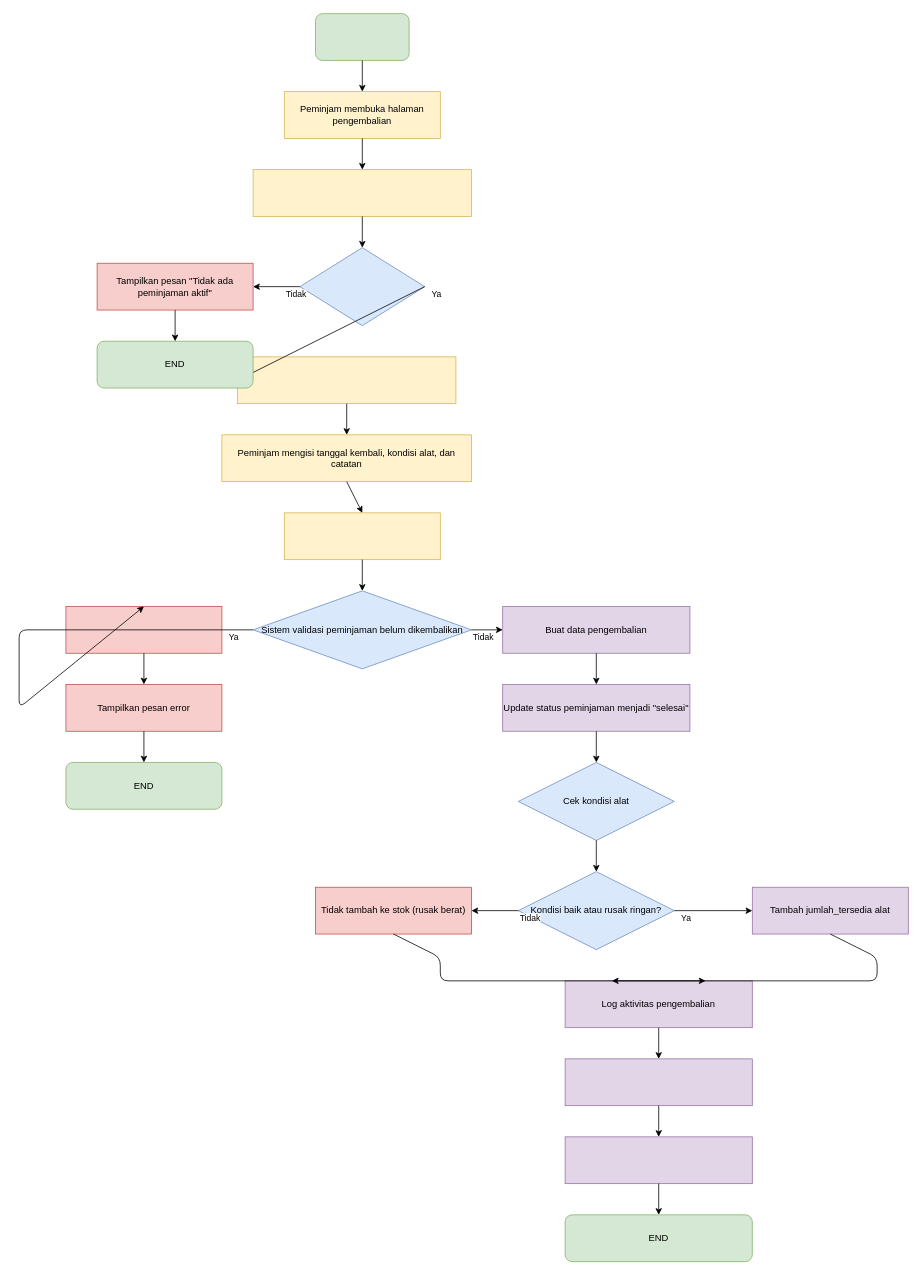
Some shapes in this 922 by 1275 pixel diagram are drawn without their labels. The centre of each missing label's shape, as x and y in pixels:
"Ada peminjaman aktif?" belongs at (362,286).
"Peminjam klik tombol Kembalikan" belongs at (362,536).
"Peminjam memilih peminjaman yang akan dikembalikan" belongs at (346,380).
"Redirect ke dashboard" belongs at (658,1160).
"Sistem menampilkan daftar peminjaman aktif" belongs at (362,192).
"START" belongs at (362,36).
"Sudah dikembalikan?" belongs at (143,629).
"Tampilkan pesan sukses" belongs at (658,1082).
